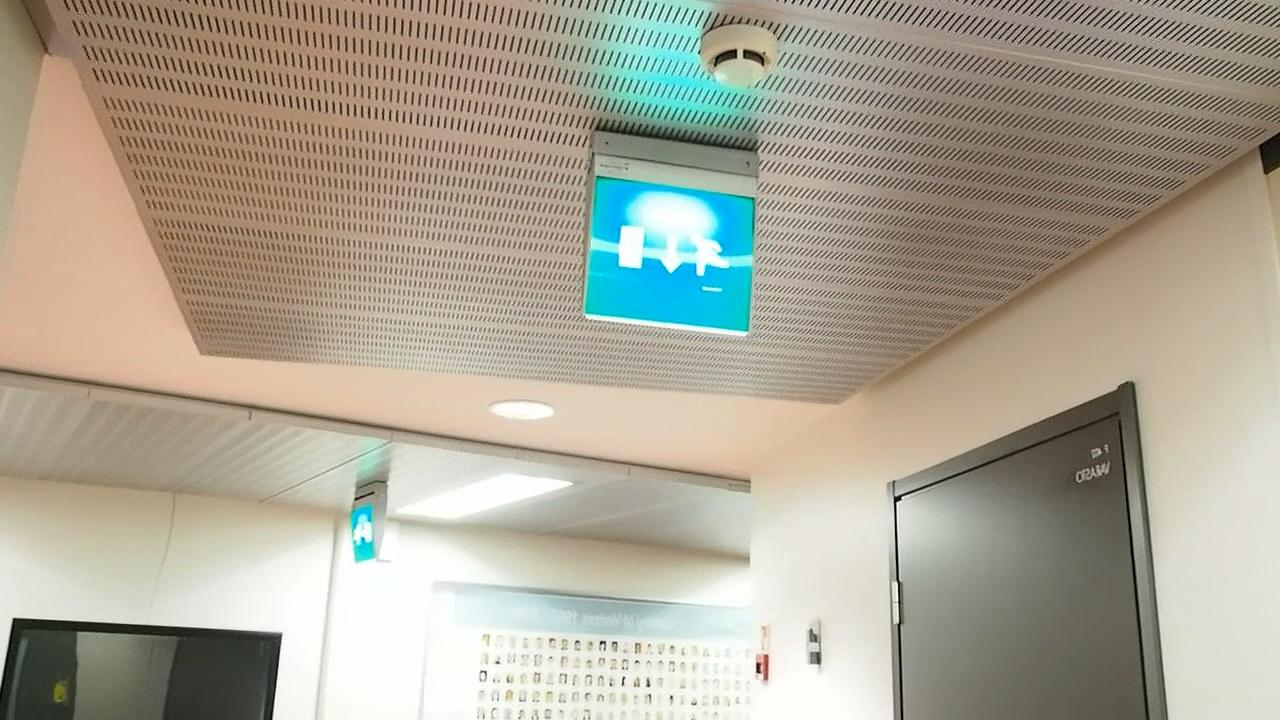exit: (584, 169, 759, 333)
